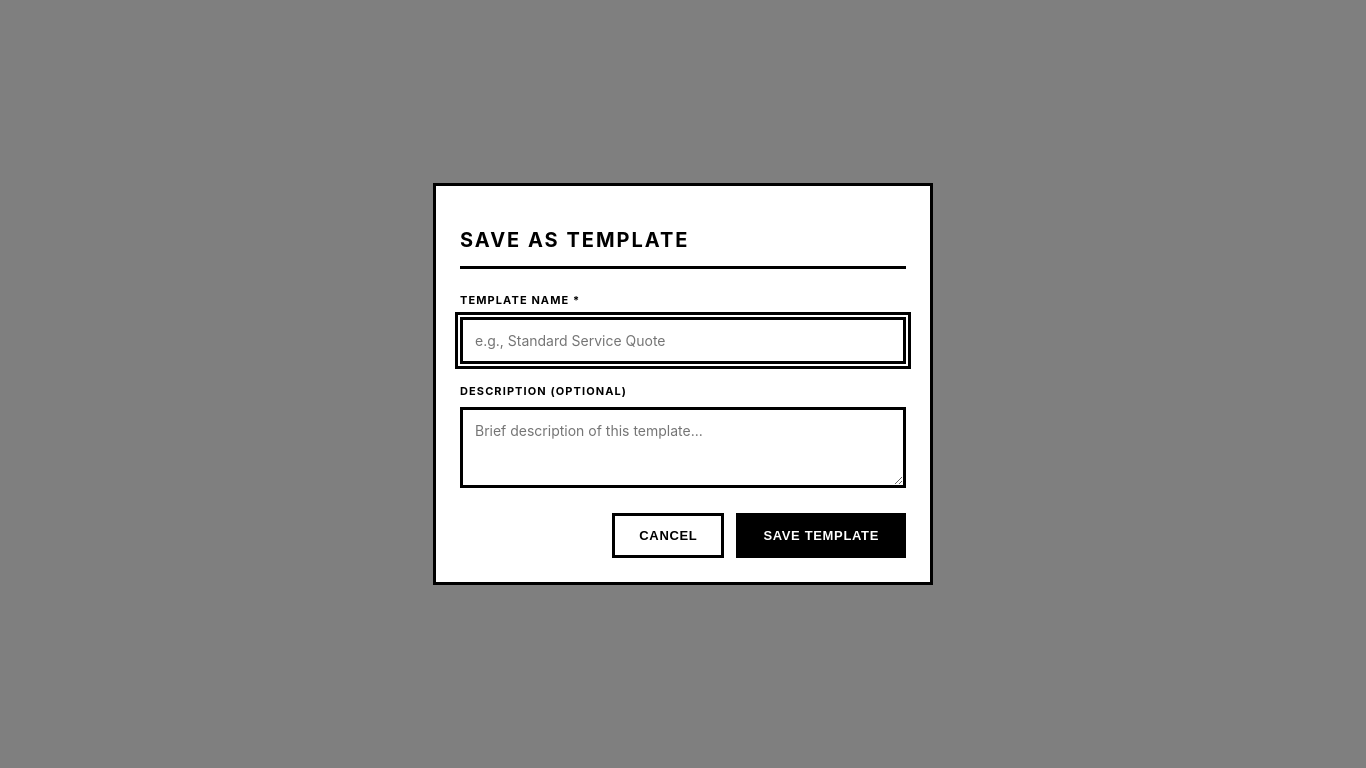
Test: SaveTemplateModal › requires a name
Click the button "SAVE TEMPLATE" at [821, 536], box [736, 513, 906, 558]
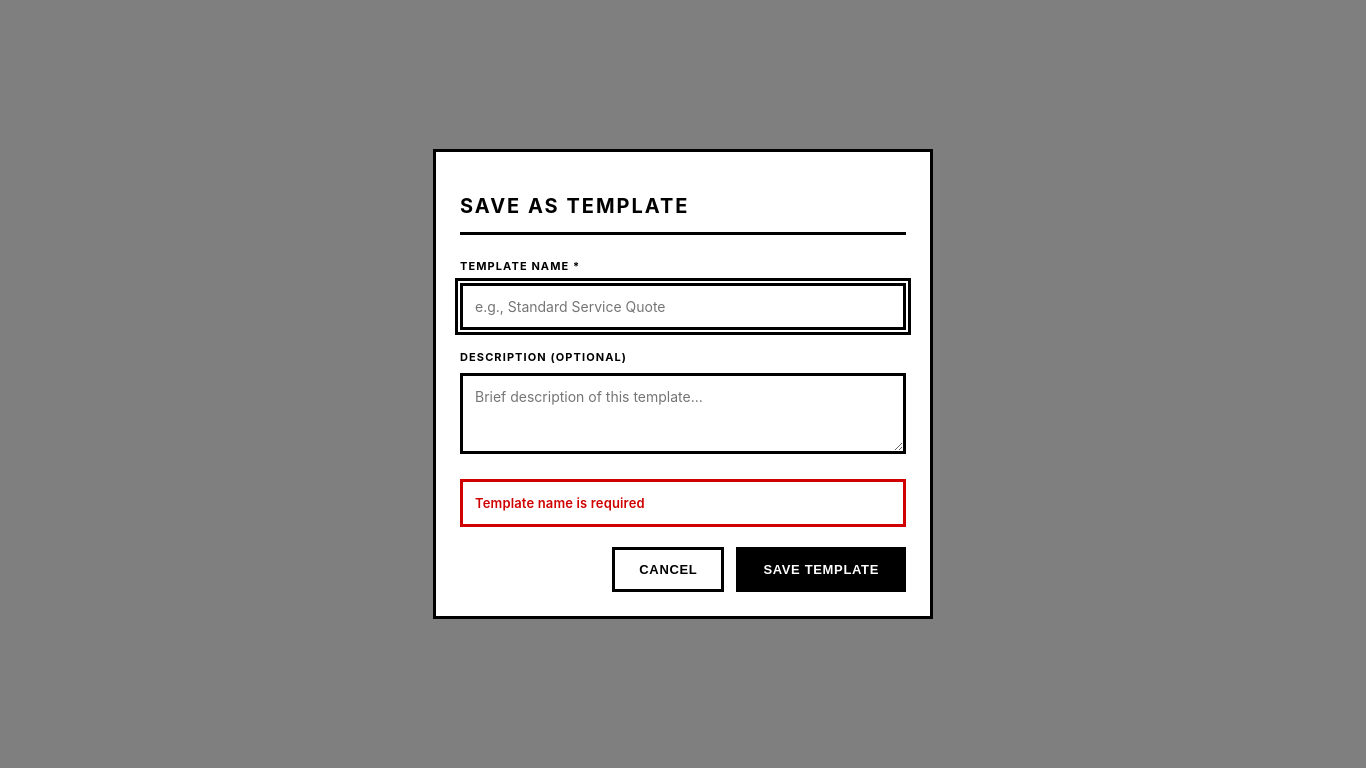
Now the text "Template name is required" is shown, box [460, 479, 906, 528]
